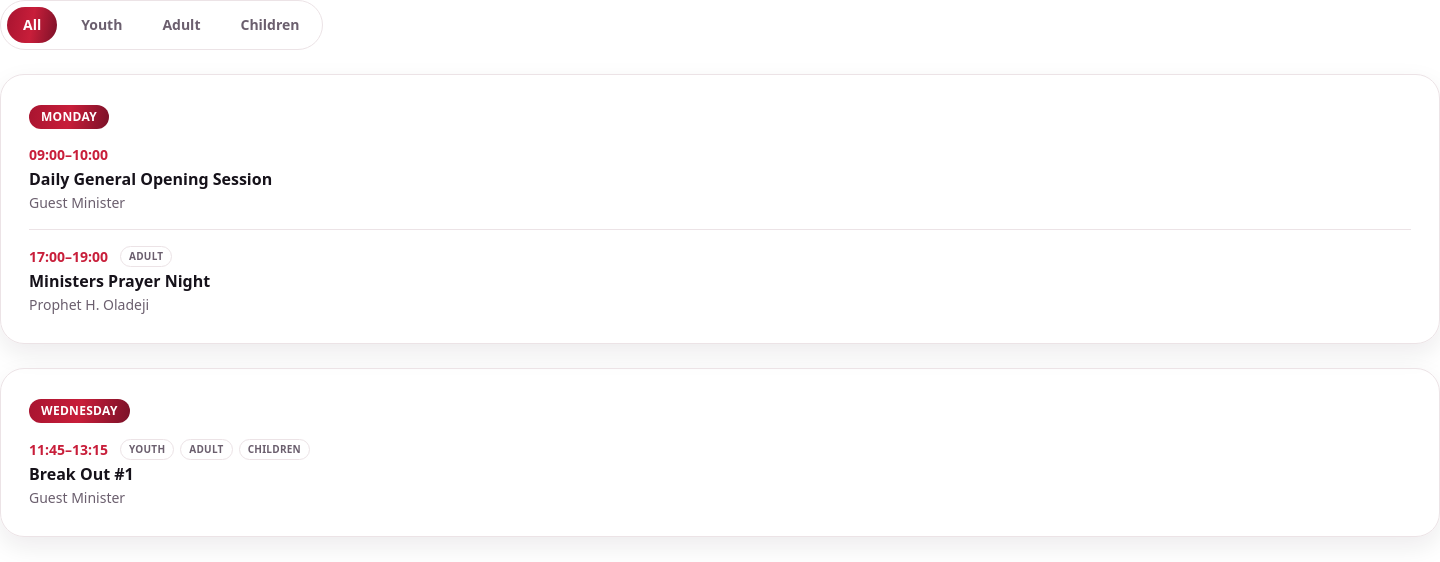
Test: ScheduleView › filtering to Children hides adult-only sessions but keeps general and breakout ones
Click the button "Children".
click(270, 25)  # box 224,7 -> 316,43
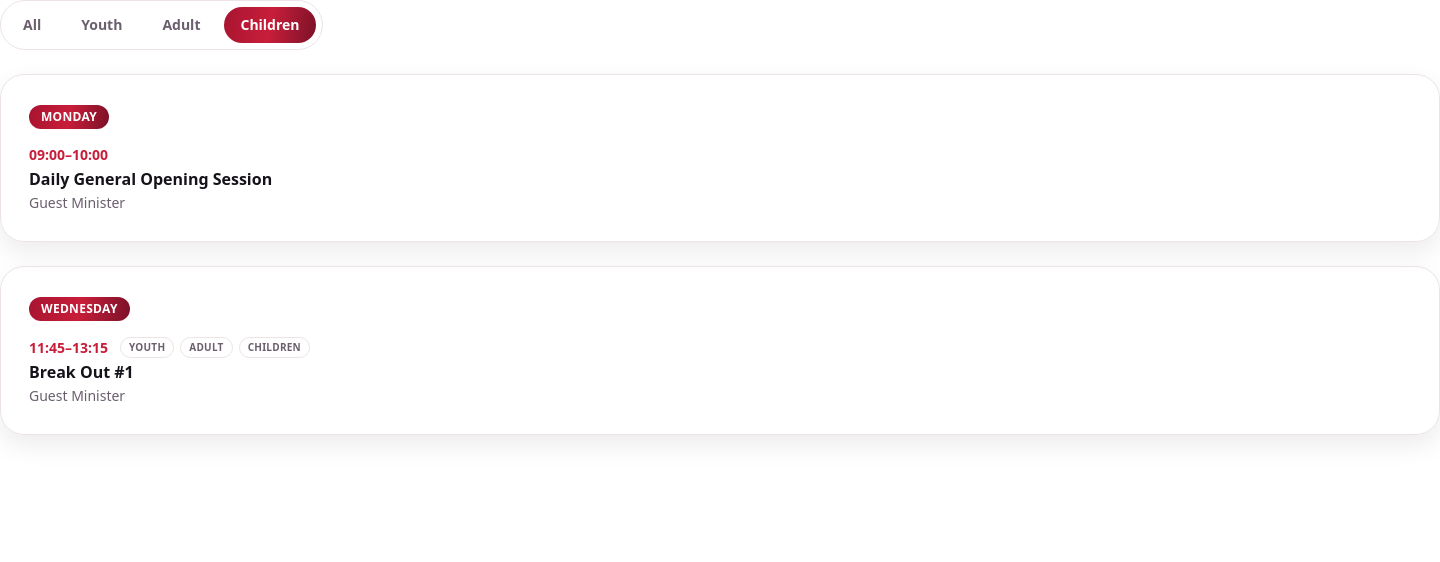
Check: the text "Daily General Opening Session" is shown, box 29,168 -> 272,190
Check: the text "Ministers Prayer Night" is gone
